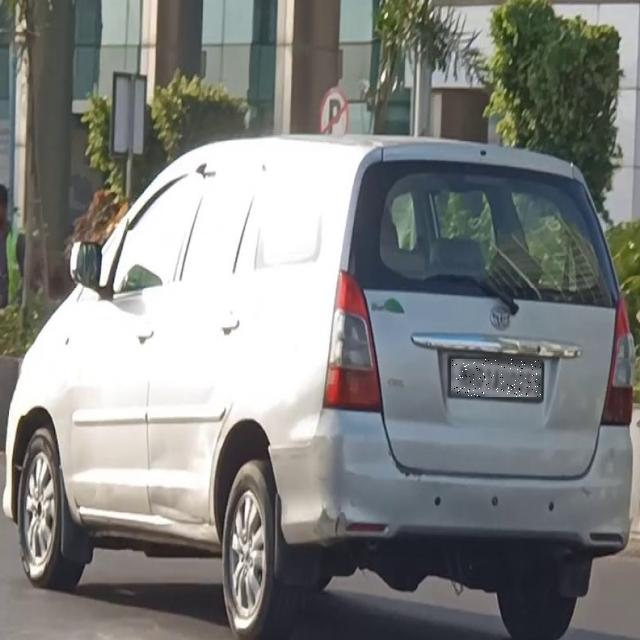Plate: (452, 360, 542, 398)
